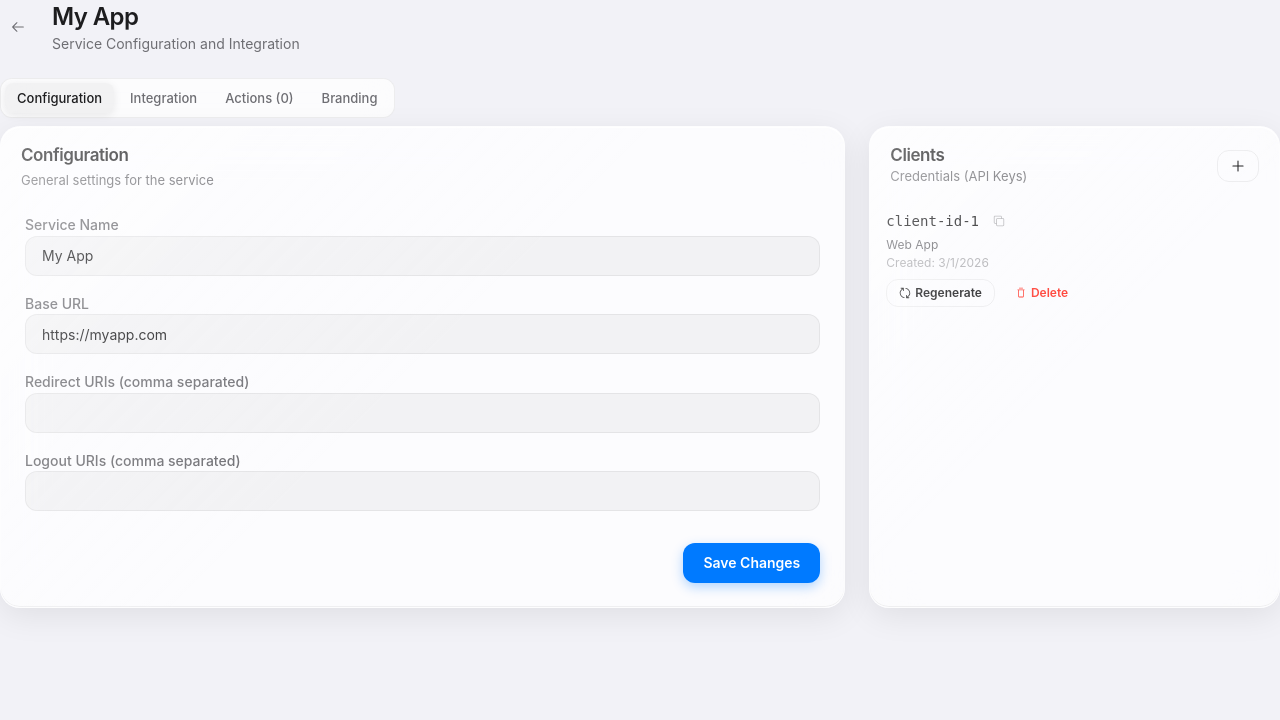
Service Detail Page › regenerates client secret
Check: the text "client-id-1" is shown, box [886,212,979,232]
Click the button "Regenerate".
click(941, 294)  # box [886,280,995,308]
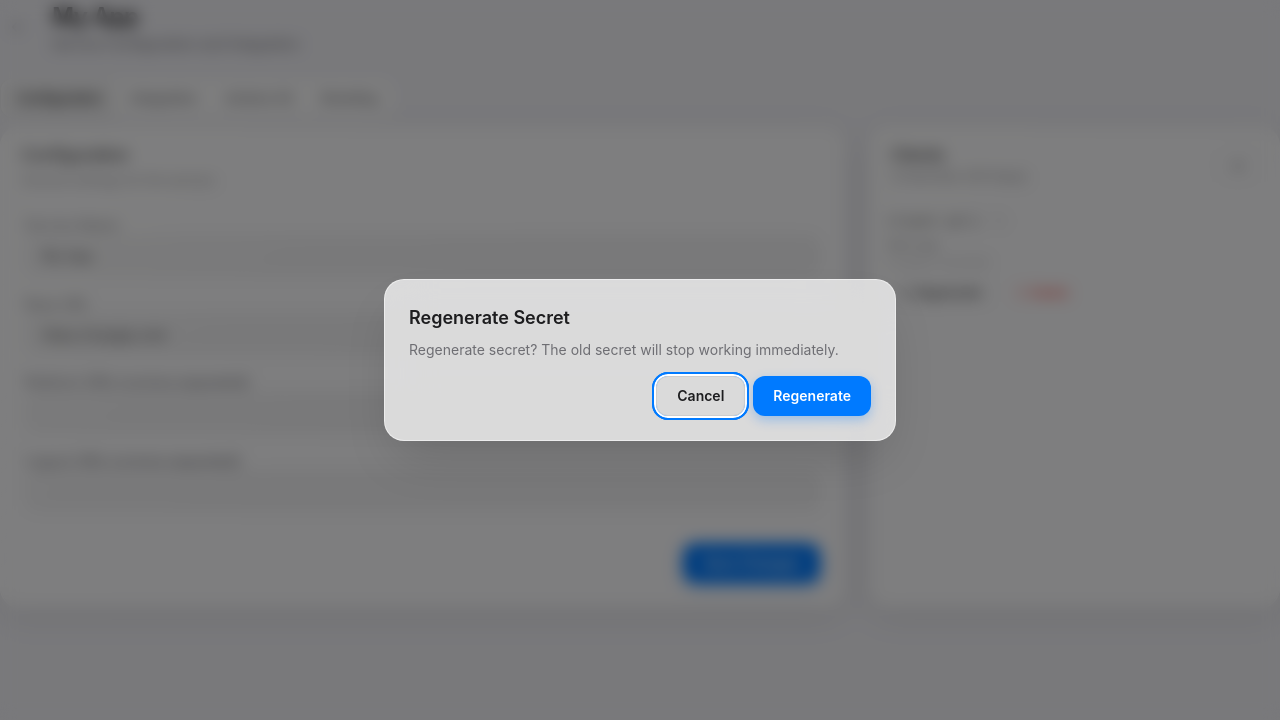
Check: the heading with test id "confirm-dialog-title" reads "Regenerate Secret", box [409,307,570,328]
Confirm the action
Click the button with test id "confirm-dialog-action".
click(812, 396)  # box [753,376,871,416]
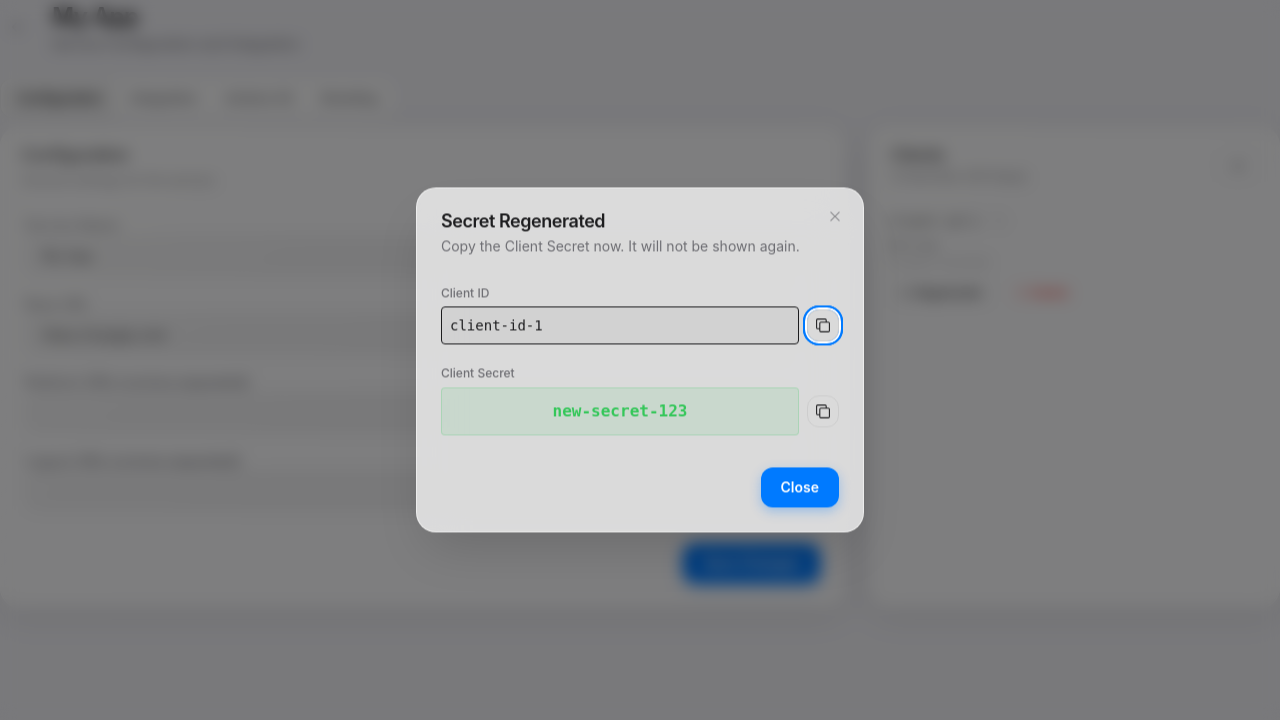
Check: the heading "Secret Regenerated" is shown, box [441,210,605,231]
Check: the text "new-secret-123" is shown, box [441,387,799,436]
